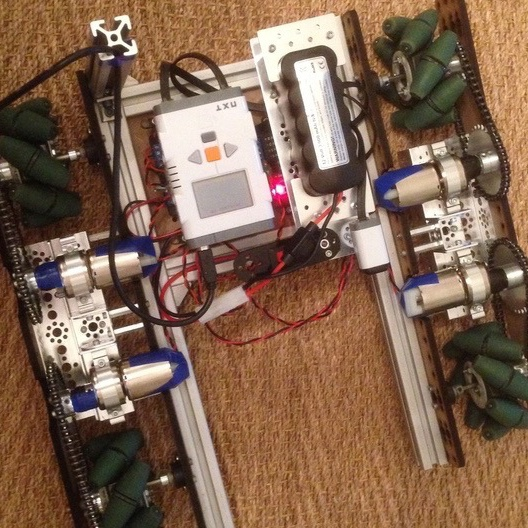robot: (0, 1, 528, 528)
